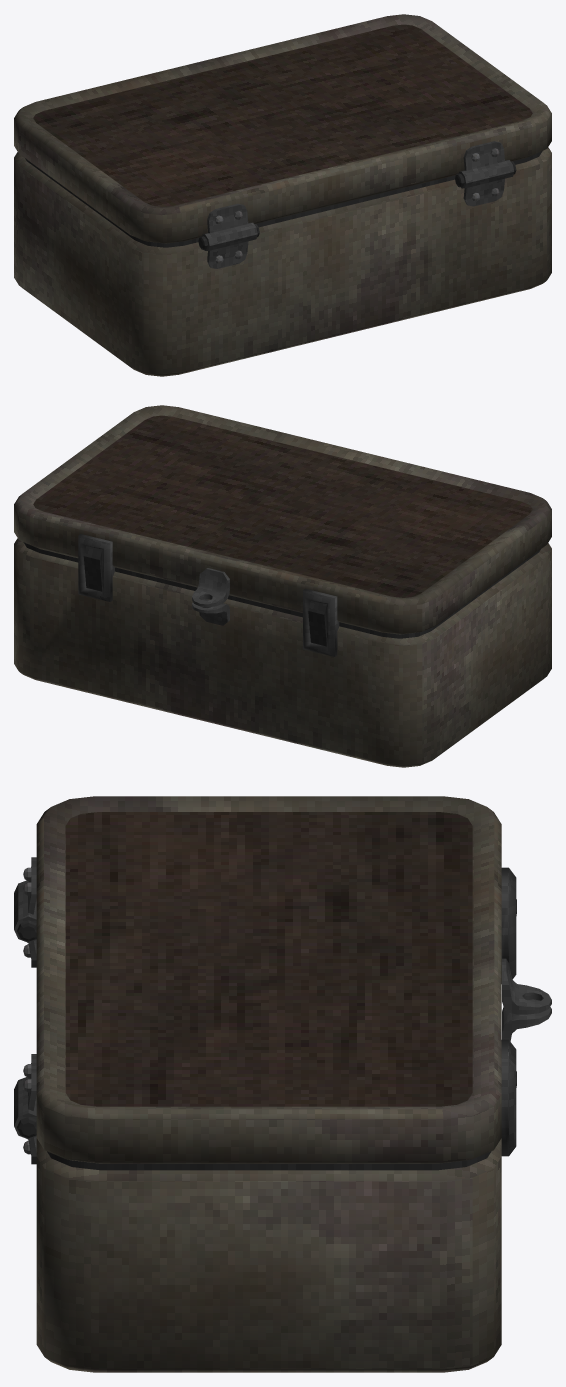
The model's file is metal_crate_2.glb.
3 views of the same model, one above another, from view 1: azimuth 30°, elevation 25°; view 2: azimuth 150°, elevation 25°; view 3: azimuth 270°, elevation 25° (orthographic). The views are drawn at different scales.
Parts seen in each view (by area): view 1: metal_crate_2; view 2: metal_crate_2; view 3: metal_crate_2.
Boxes of the visible parts, x1=… form: metal_crate_2: x1=14, y1=14, x2=551, y2=376; metal_crate_2: x1=14, y1=405, x2=551, y2=767; metal_crate_2: x1=14, y1=796, x2=551, y2=1372.
Size of the model in its own units: 0.52 by 0.2 by 0.3702.
Materials: 5 (5 with a texture image).
